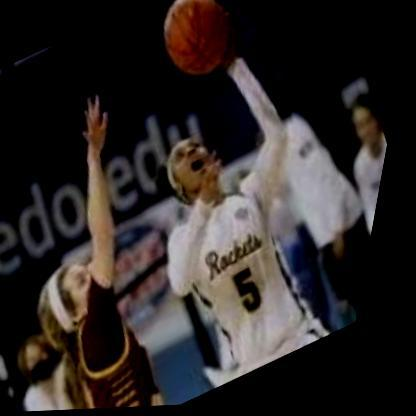basketball: (133, 0, 256, 97)
